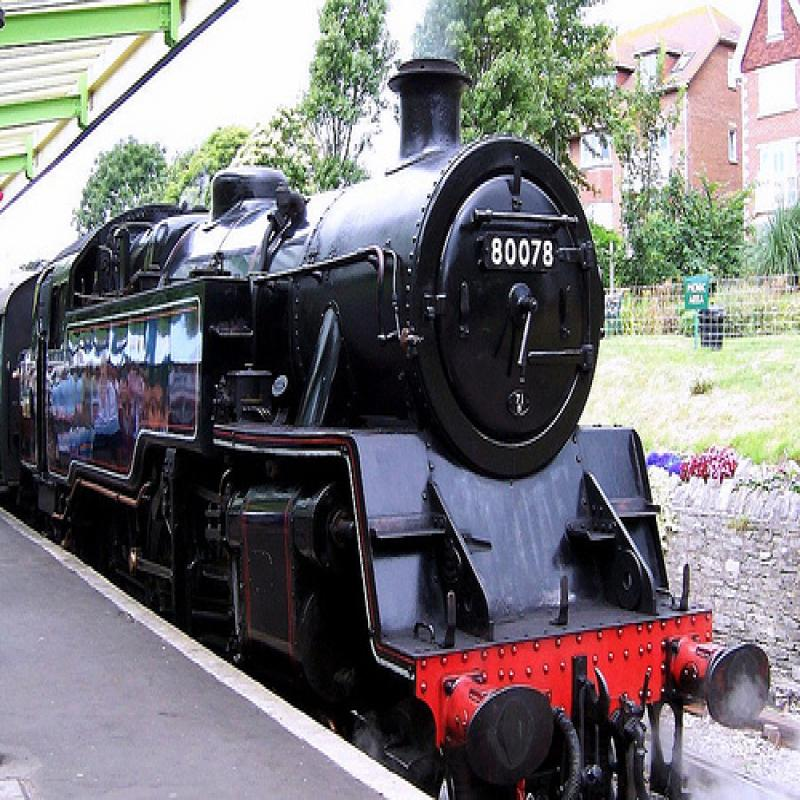train: (3, 62, 774, 800)
